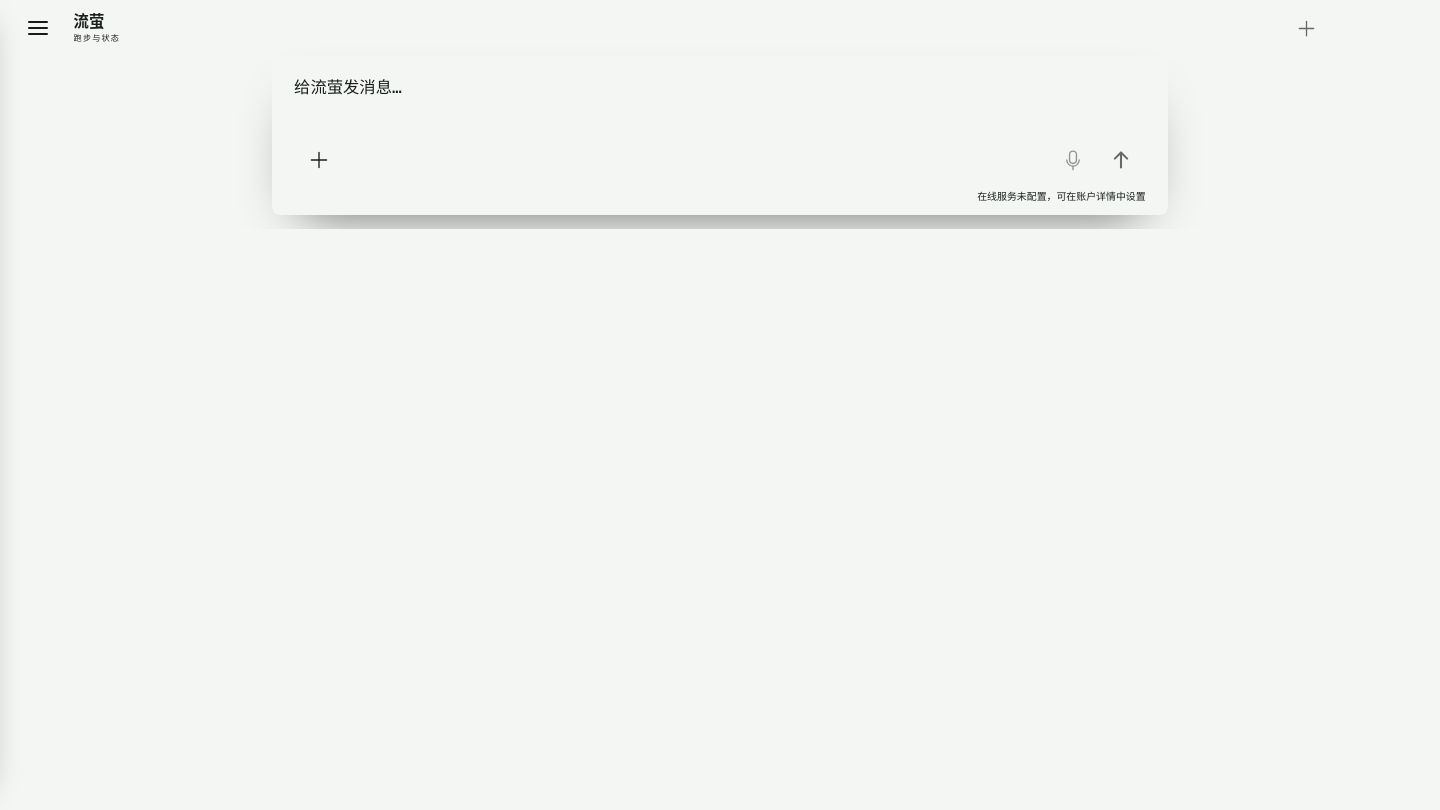
Test: 输入工具面板通过 body Portal 呈现，Esc 关闭并归还焦点
Click the button named "更多输入选项".
click(319, 160)  # box [297, 138, 341, 182]
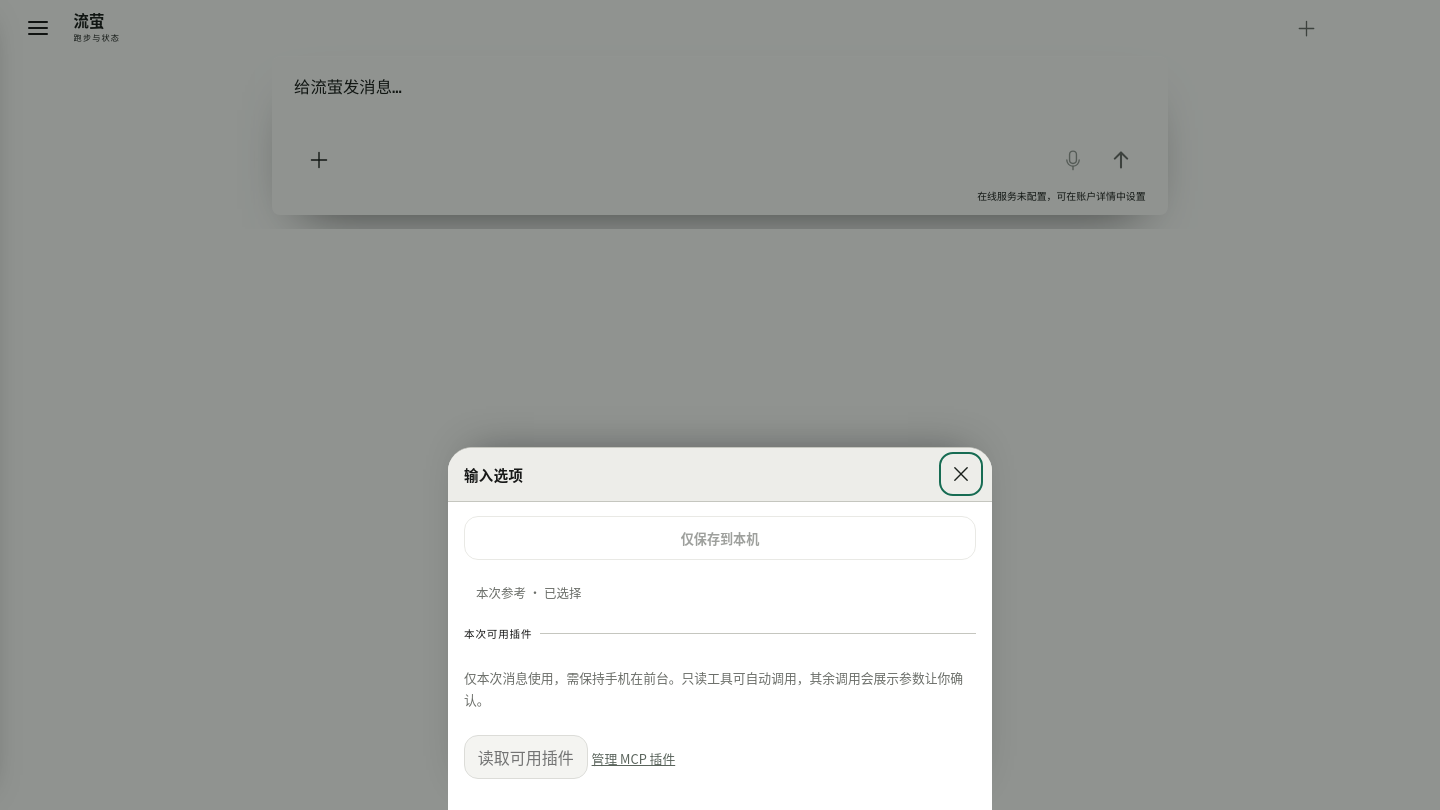
Press Tab
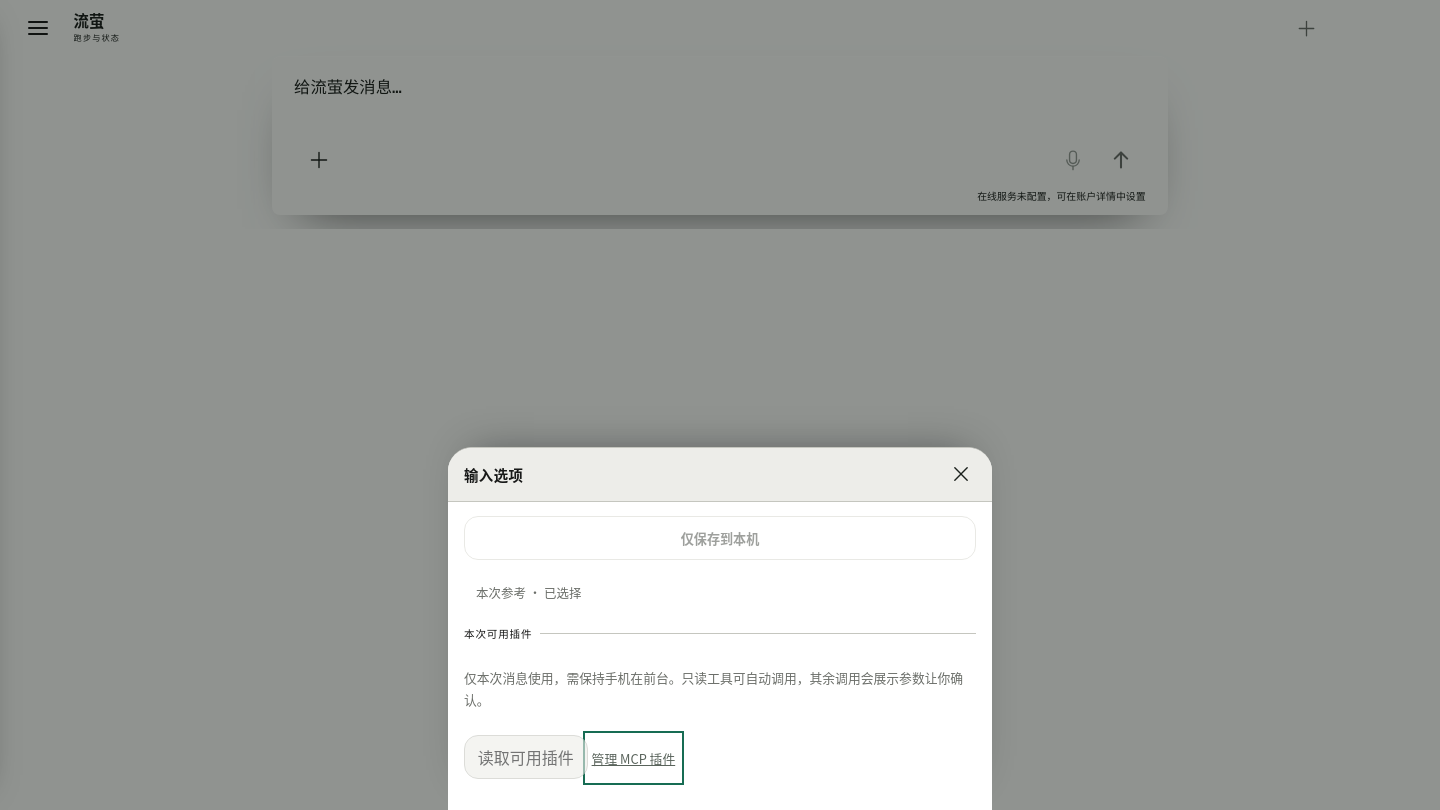
Press Escape
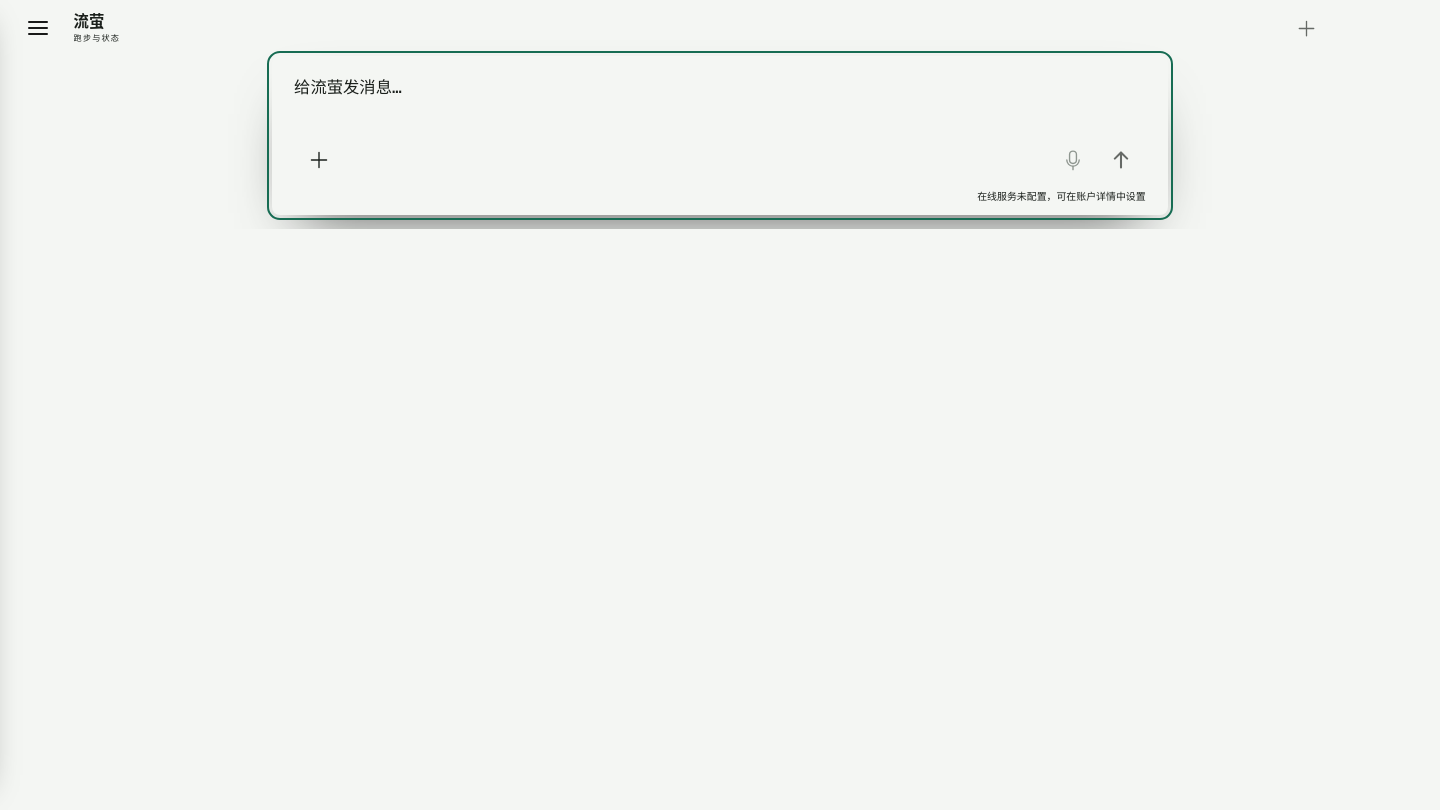
expect the heading "输入选项" is gone: met
